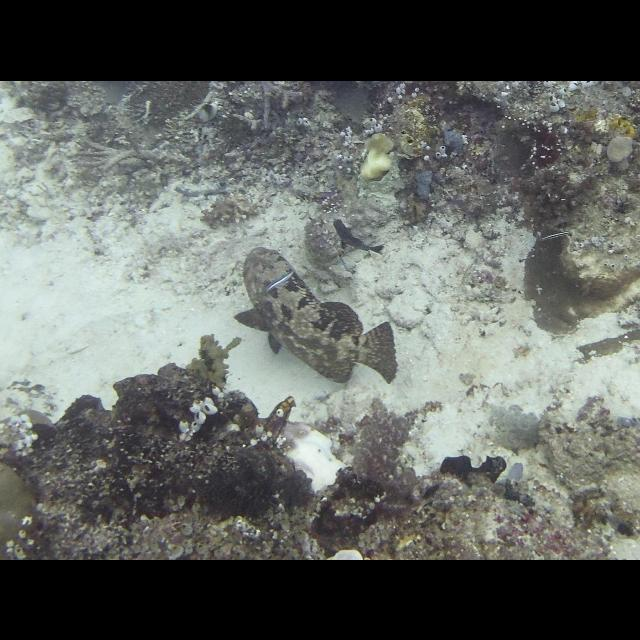Groupers: (234, 242, 400, 382)
